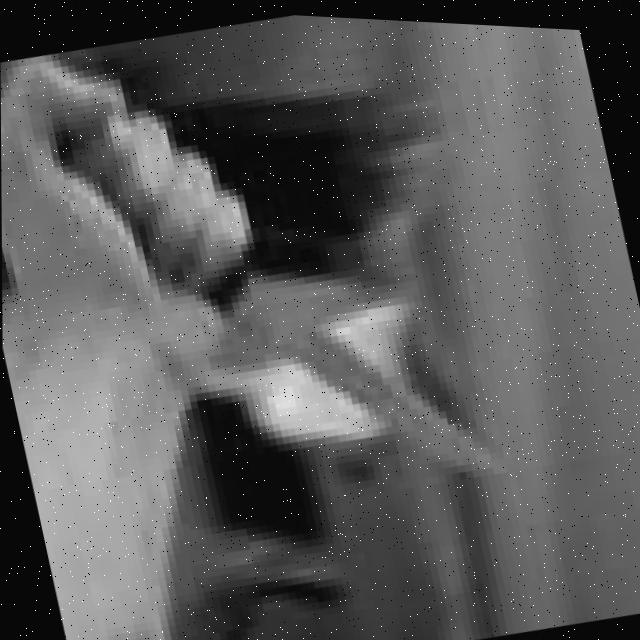knife: (234, 242, 488, 506)
